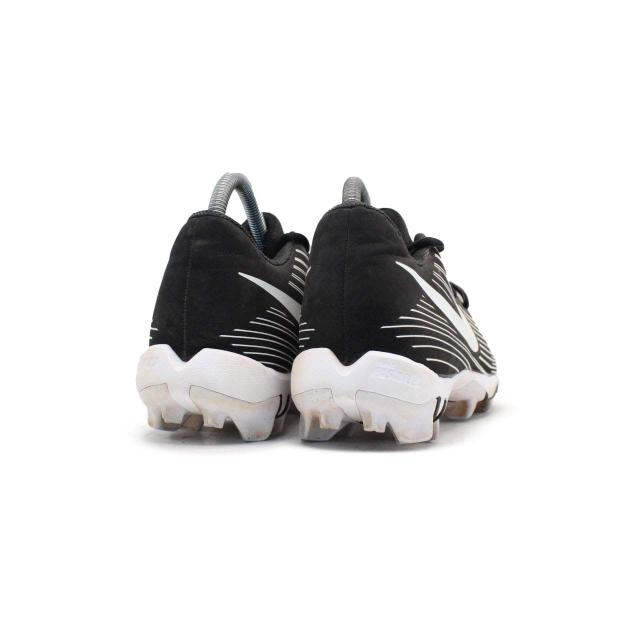heel: (300, 204, 445, 363), (150, 213, 292, 366)
midsole: (288, 346, 494, 443), (125, 345, 290, 445)
